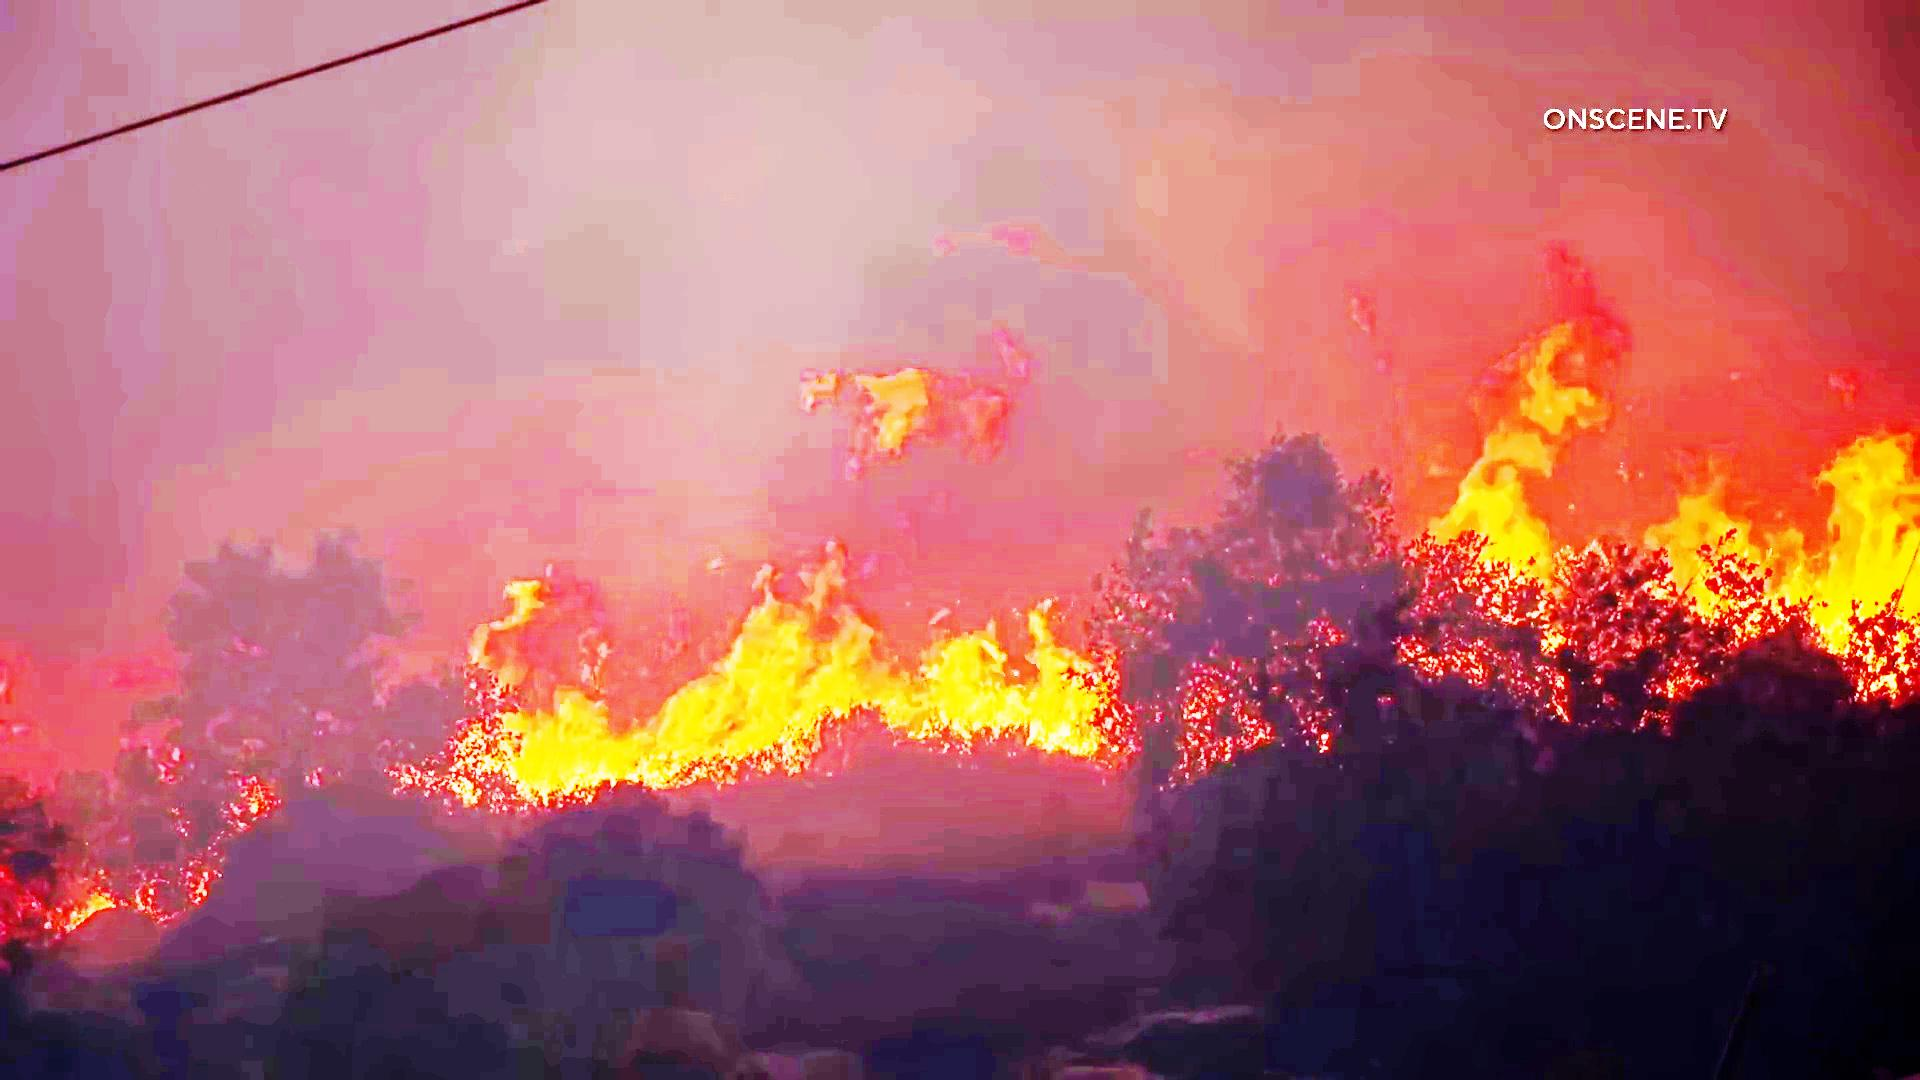fire: (479, 580, 1077, 793), (1676, 415, 1920, 645), (1458, 243, 1594, 560)
smoke: (0, 0, 1054, 496)
